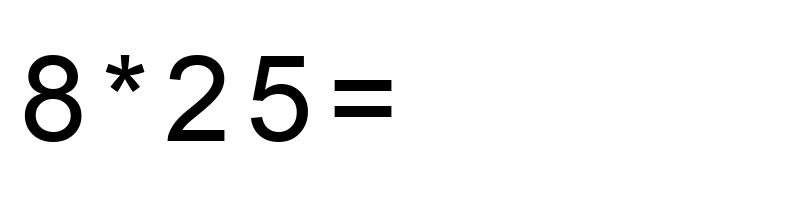*: (102, 32, 149, 167)
2: (164, 32, 231, 167)
5: (246, 32, 313, 167)
8: (20, 32, 87, 167)
=: (328, 32, 398, 167)
